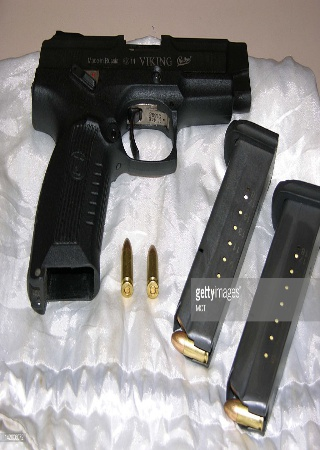handgun: (25, 28, 257, 317)
